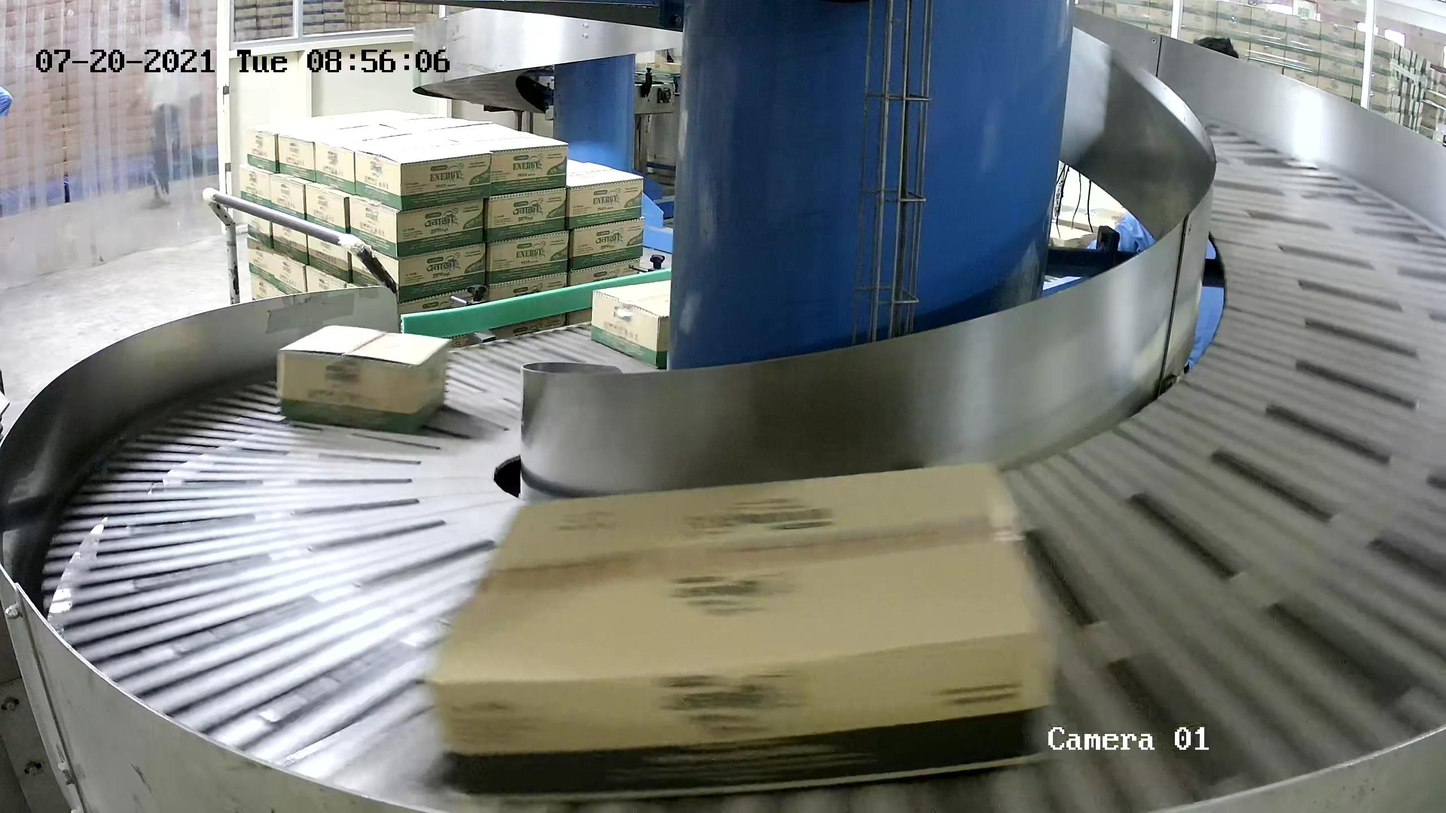Box: (419, 457, 1062, 806), (275, 324, 454, 434), (590, 278, 671, 369)
